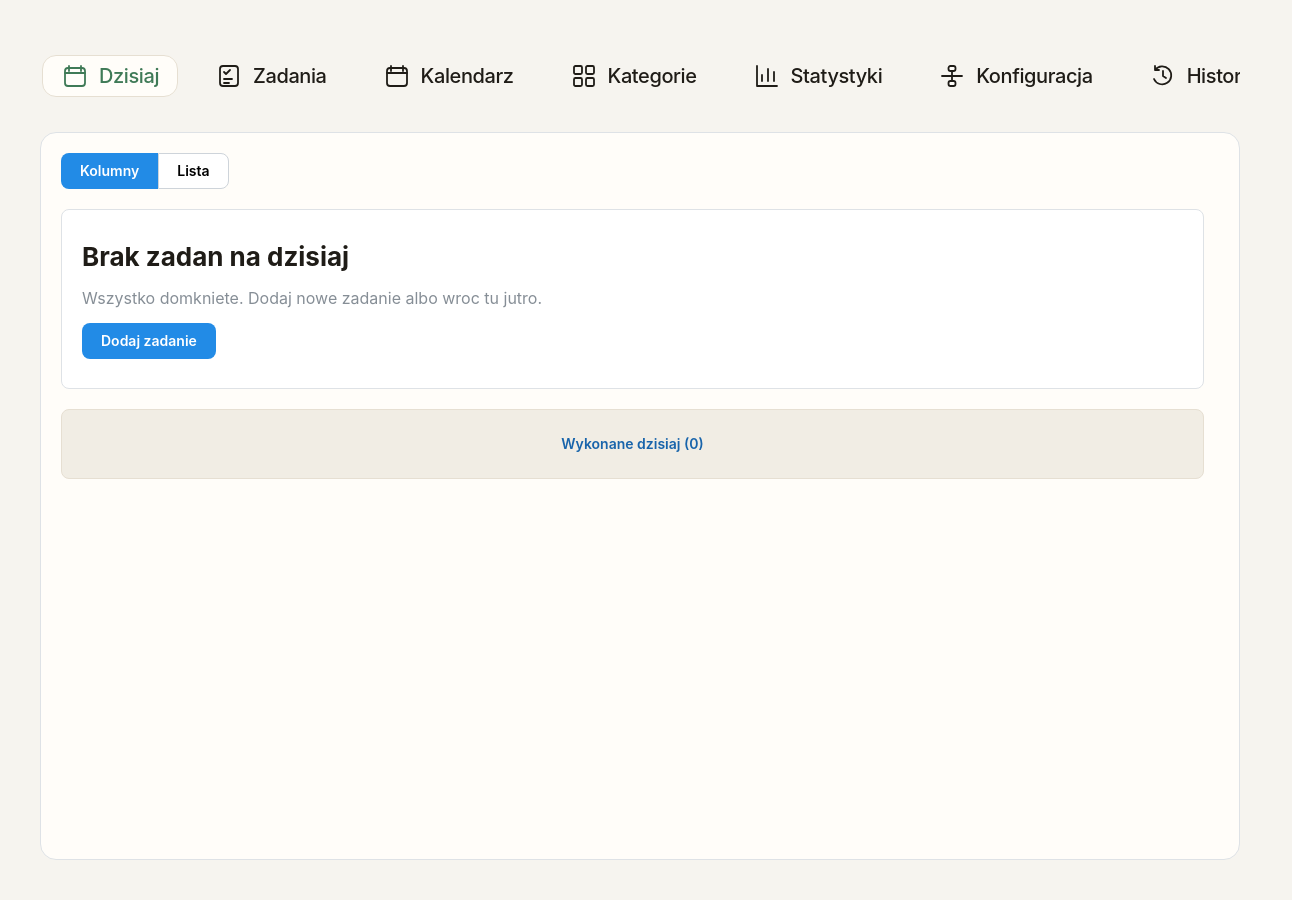
App › navigates from Today to foundation placeholder views
Click the button "Kalendarz". click: click(448, 76)
box: [364,55,533,97]
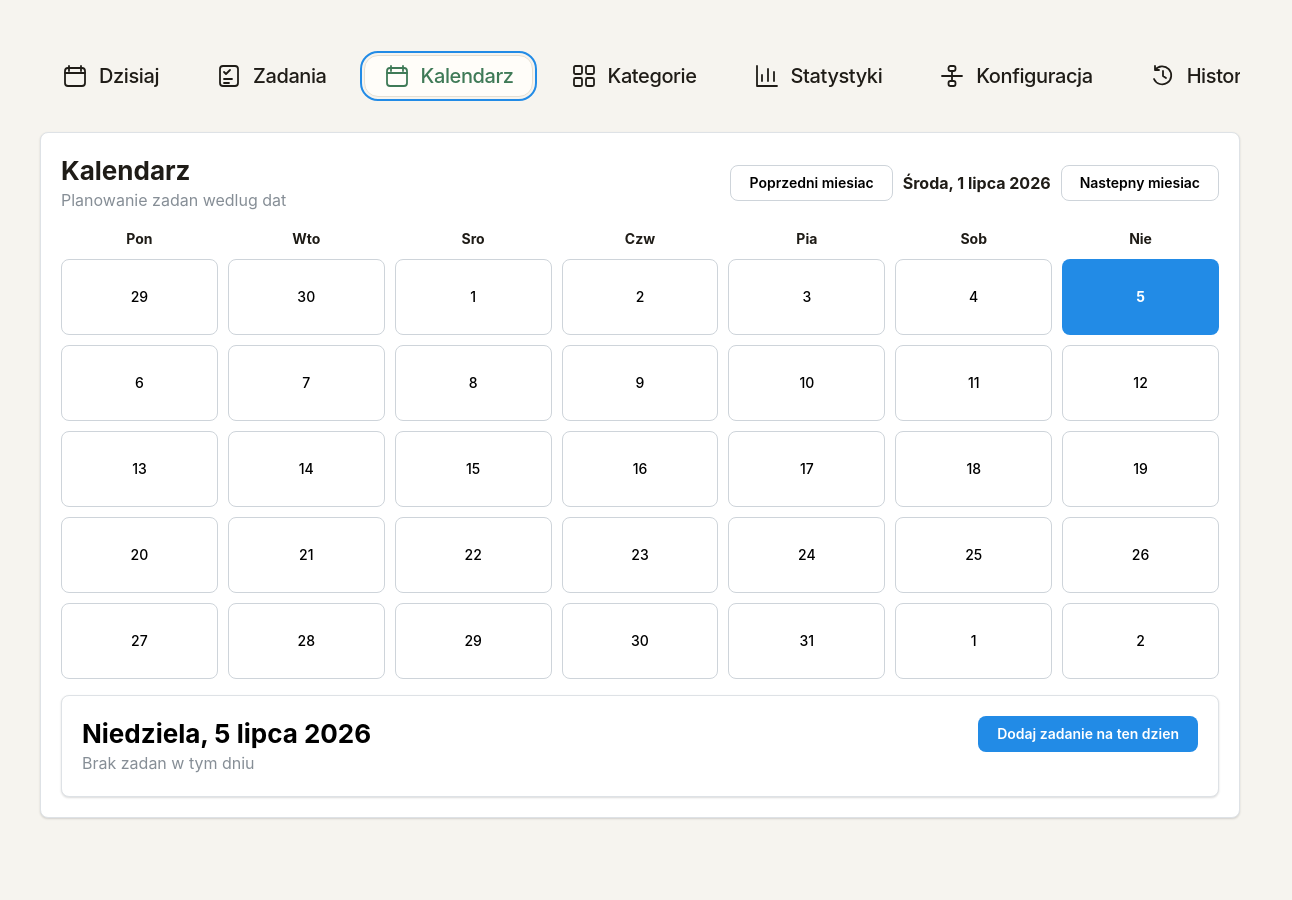
Now the heading "Kalendarz" is shown, box [61,155,190,186]
Now the text "Planowanie zadan wedlug dat" is shown, box [61,188,286,213]
Now the button named "Wtorek, 7 lipca 2026" is shown, box [228,345,385,421]
Click the button "Konfiguracja". click: click(1015, 76)
box: [919,55,1112,97]
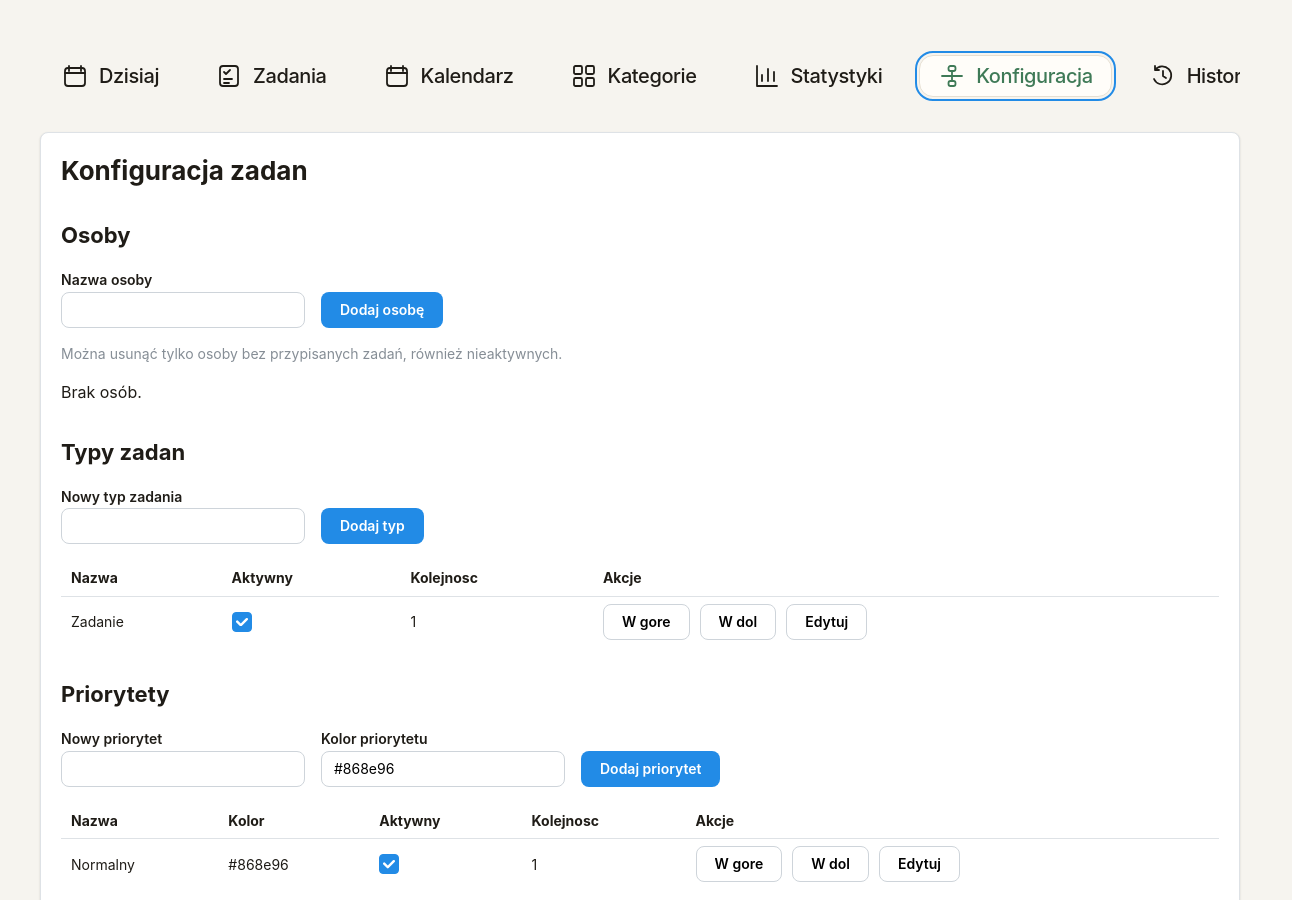
Now the heading "Konfiguracja zadan" is shown, box [61,155,308,186]
